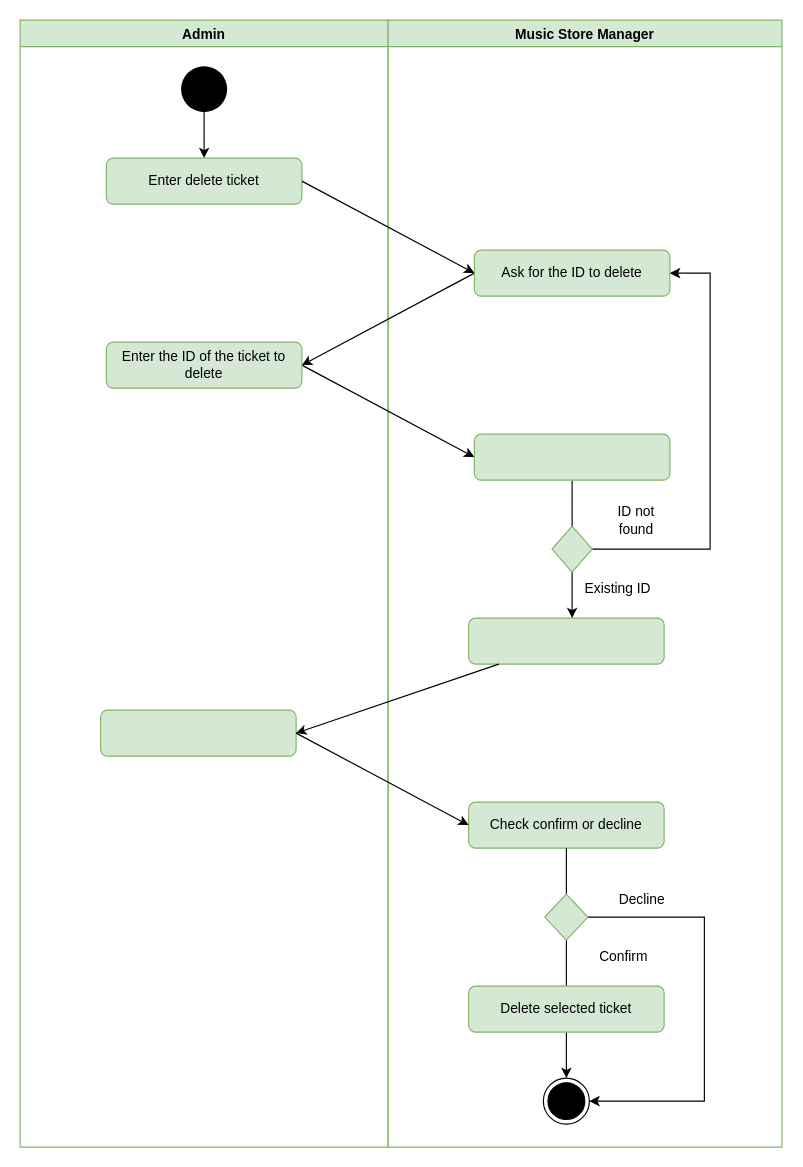
Some shapes in this 803 by 1167 pixel diagram are drawn without their labels. Here are the shapes that lost their labels. From the top down, the centre of each, then its label:
At (571,456): "Check ID".
At (565,640): "Return message for delete confirmation".
At (197,732): "Confirm or decline delete article".
